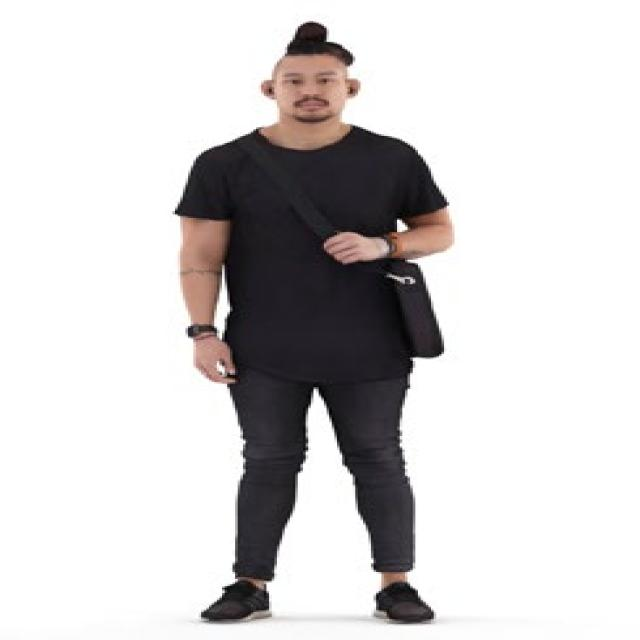standing: (172, 20, 464, 622)
